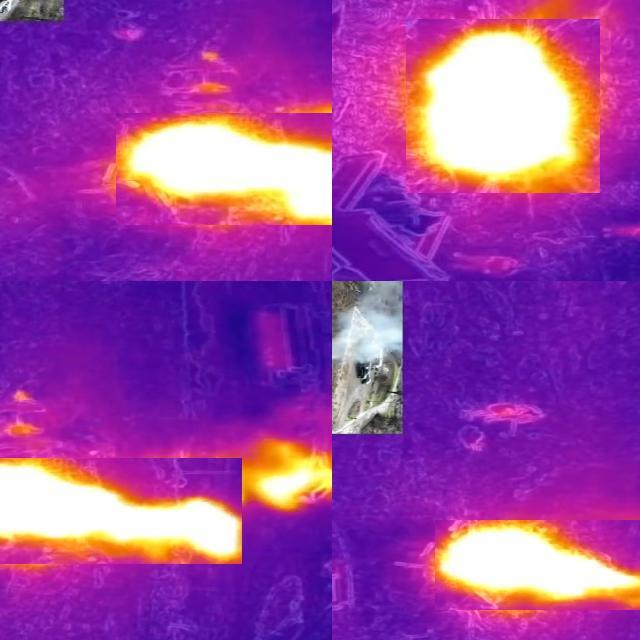fire: (406, 20, 600, 194), (1, 459, 242, 565), (116, 114, 333, 226), (435, 521, 640, 611), (253, 443, 333, 518)
